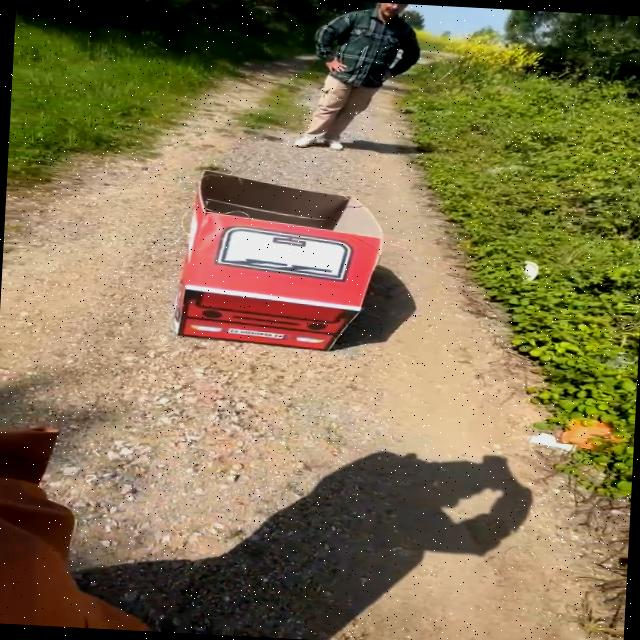red_car: (109, 156, 408, 370)
